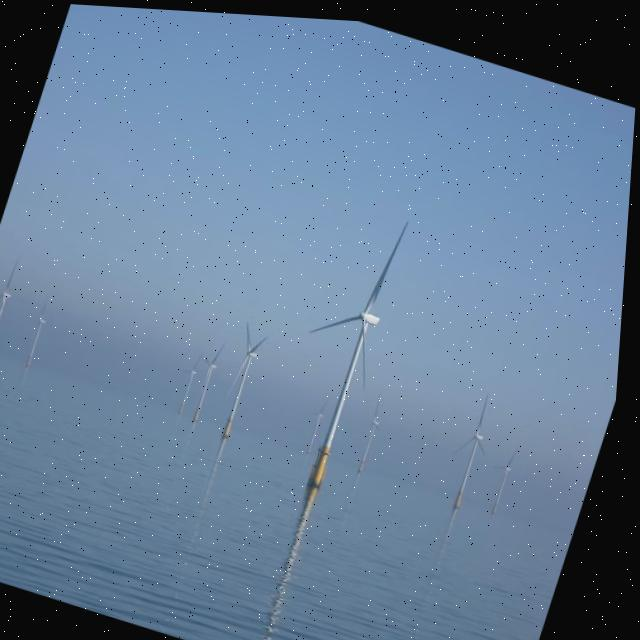solid-blade: (367, 216, 409, 306), (314, 310, 366, 327)
